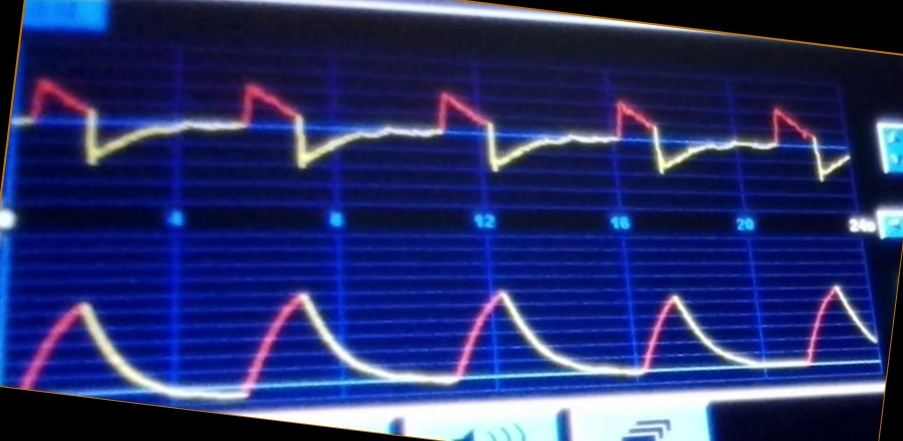Accumulation Flow: (18, 69, 851, 203)
Volume: (17, 275, 876, 404)
